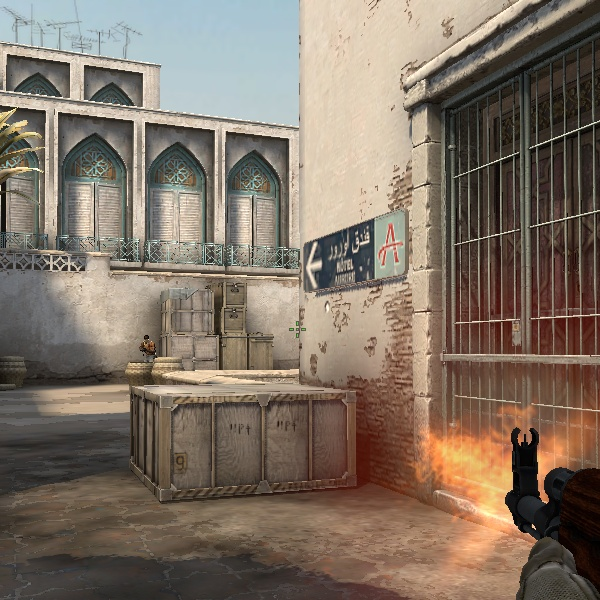t_body: (140, 335, 157, 363)
t_head: (144, 335, 150, 343)
